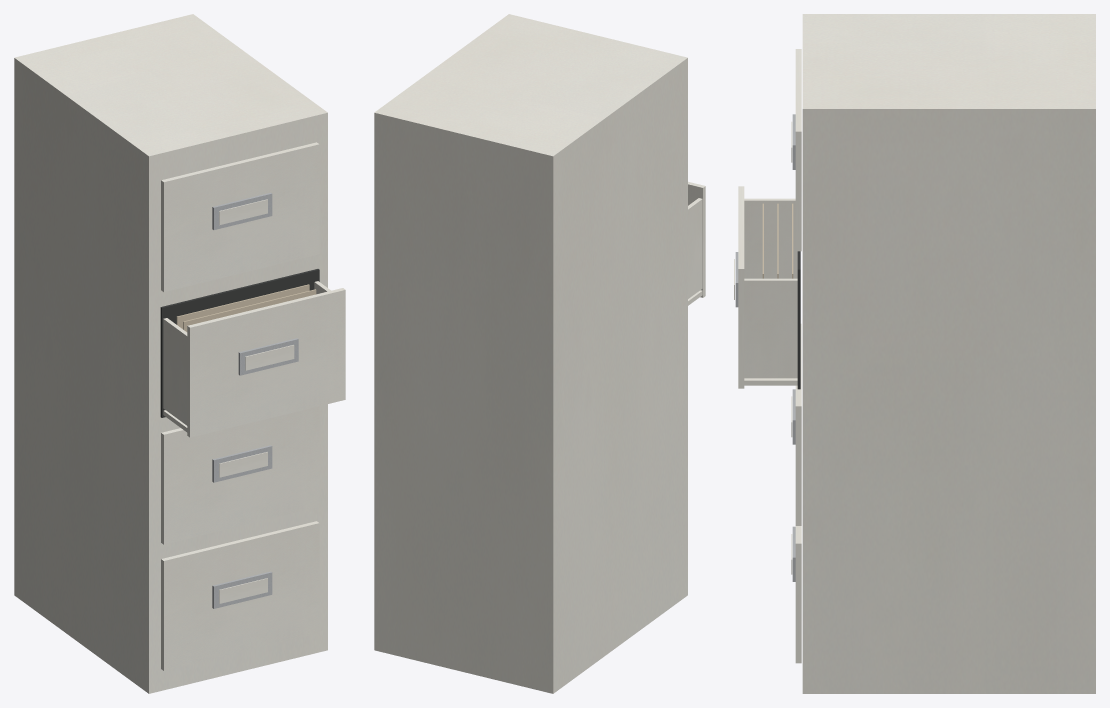
The model's file is filing_cabinet_open.glb.
3 renders of one model, left to right at view 1: azimuth 30°, elevation 25°; view 2: azimuth 150°, elevation 25°; view 3: azimuth 270°, elevation 25°, orthographic. The views are drawn at different scales.
Parts seen in each view (by area): view 1: Straight steel cabinet shell, Drawer 1 matching face, Drawer 3 matching face, Drawer 4 matching face, Drawer 2 matching face, One matching drawer opening, Drawer side, File folder.002, Drawer 3 recessed label frame, File folder.001, Drawer 1 recessed label frame, Drawer 2 recessed label frame (+5 smaller); view 2: Straight steel cabinet shell, Drawer side, Drawer 3 matching face; view 3: Straight steel cabinet shell, Drawer side.001, Drawer side, Drawer 3 matching face, Drawer 4 matching face, Drawer 2 matching face, Drawer 1 matching face, One matching drawer opening.
Part boxes in pixels (x1,y1,x2,y2): Straight steel cabinet shell: (14, 14, 327, 693); Drawer 1 matching face: (161, 521, 319, 670); Drawer 3 matching face: (187, 288, 345, 437); Drawer 4 matching face: (161, 142, 319, 291); Drawer 2 matching face: (161, 406, 319, 544); One matching drawer opening: (160, 269, 319, 417); Drawer side: (163, 318, 187, 425); File folder.002: (176, 284, 309, 329); Drawer 3 recessed label frame: (238, 338, 298, 375); File folder.001: (183, 289, 316, 331); Drawer 1 recessed label frame: (212, 571, 272, 608); Drawer 2 recessed label frame: (212, 445, 272, 482); Straight steel cabinet shell: (374, 14, 687, 693); Drawer side: (688, 198, 702, 298); Drawer 3 matching face: (688, 181, 705, 297); Straight steel cabinet shell: (802, 14, 1095, 693); Drawer side.001: (744, 278, 797, 378); Drawer side: (744, 198, 797, 278); Drawer 3 matching face: (738, 186, 744, 388); Drawer 4 matching face: (795, 49, 801, 251); Drawer 2 matching face: (795, 323, 801, 525); Drawer 1 matching face: (795, 526, 801, 663); One matching drawer opening: (797, 251, 800, 389).
Size of the model in its own units: 0.46 by 1.32 by 0.74.
5 materials, 2 textured.
